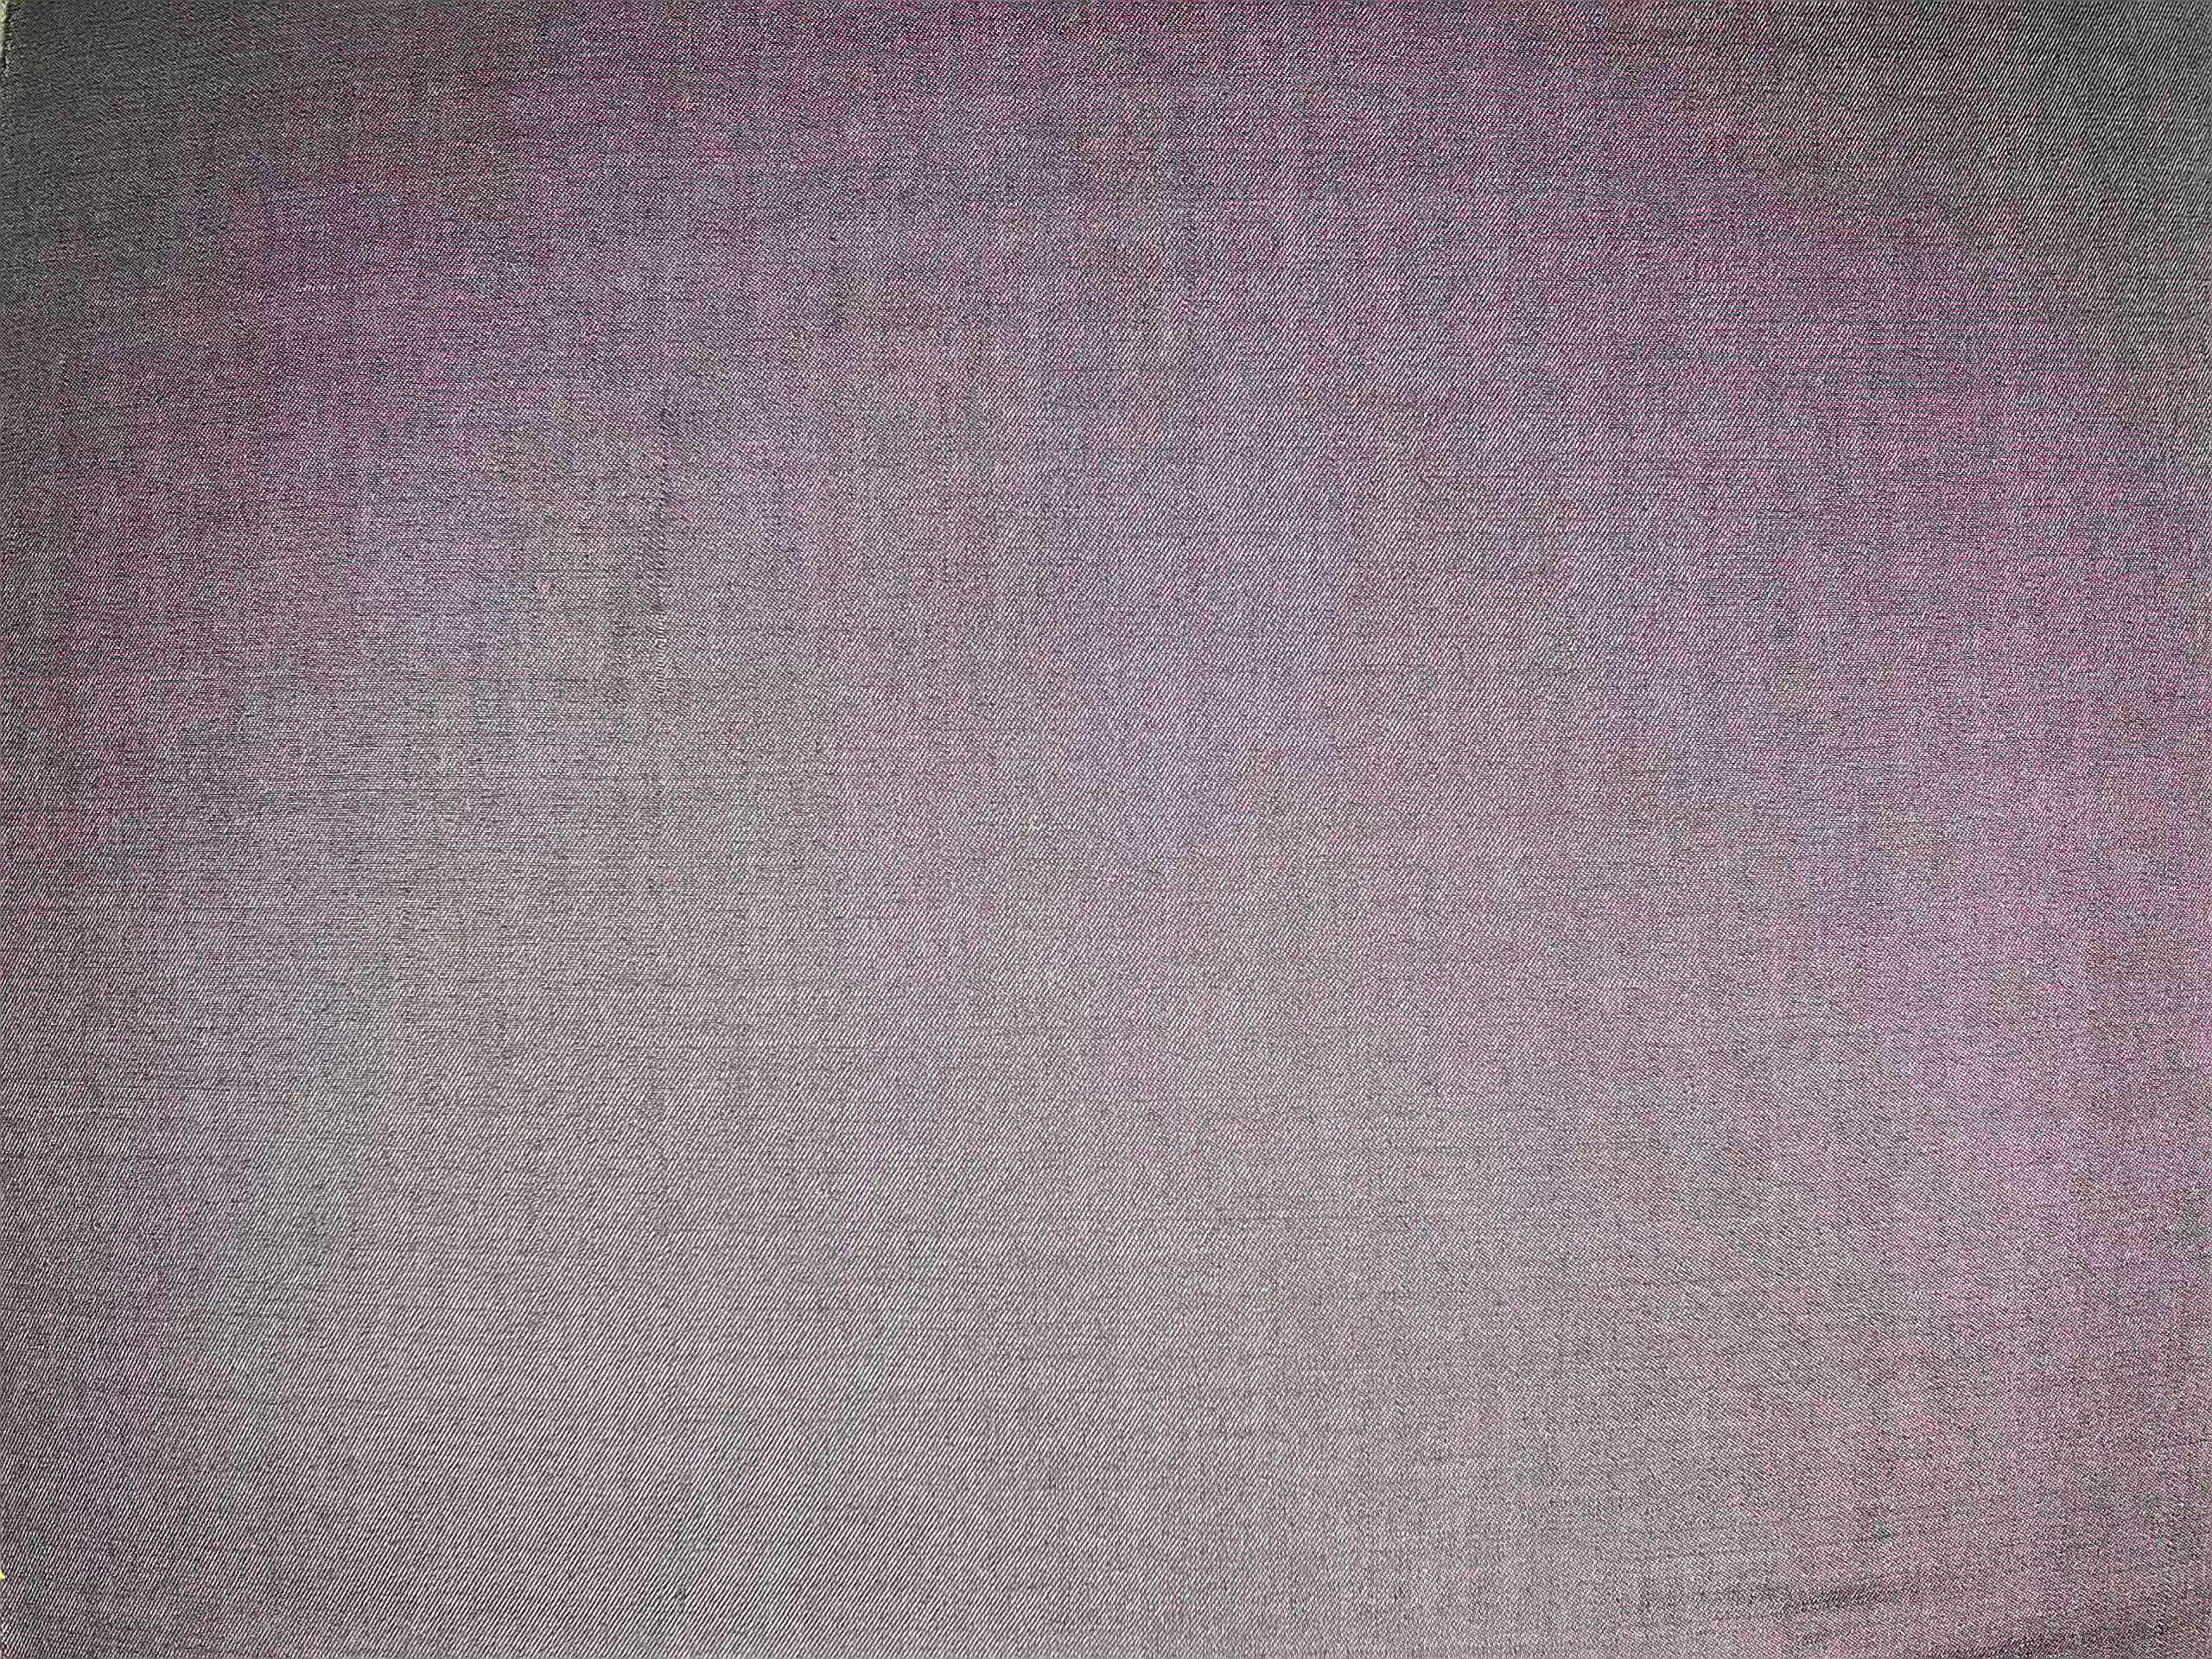jumps: (639, 370, 693, 664)
